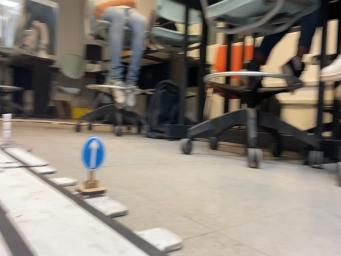forward: (77, 136, 107, 197)
street: (0, 149, 165, 255)
